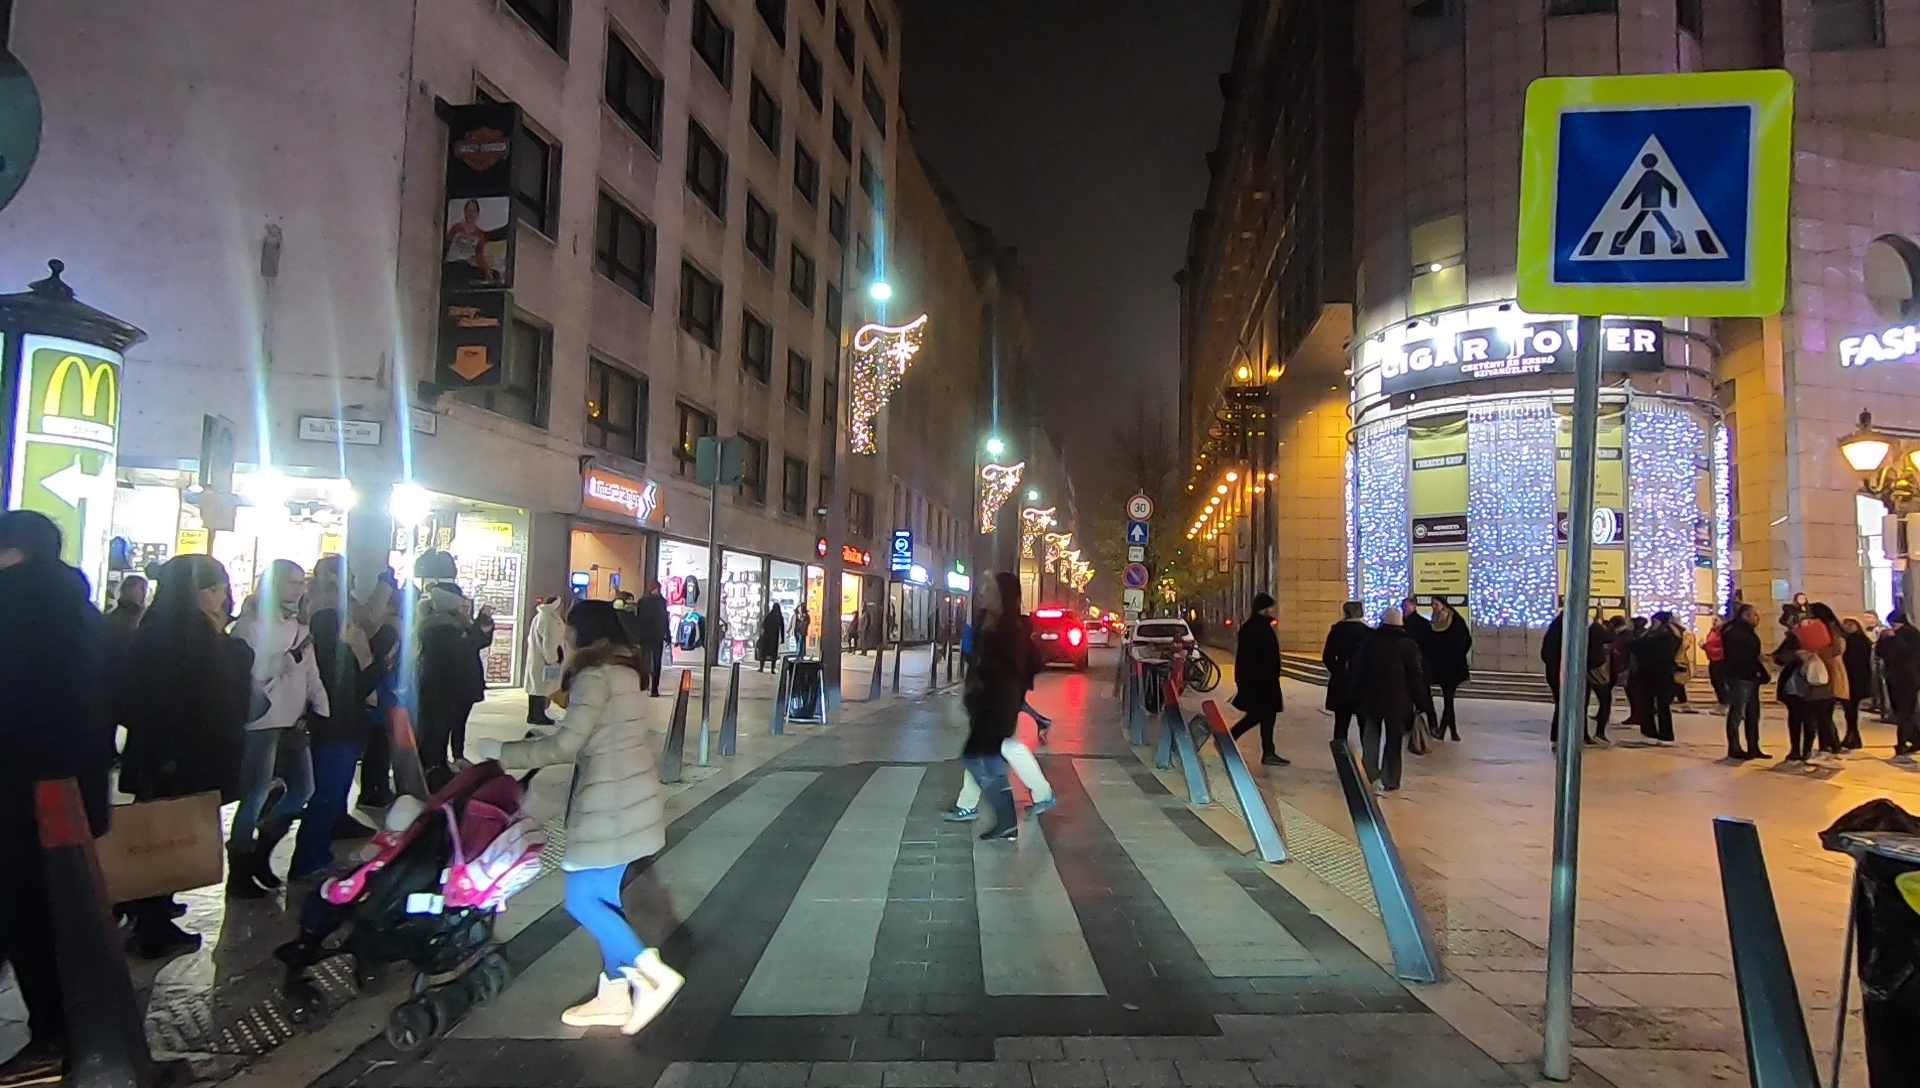person: (559, 605, 682, 1029), (135, 559, 230, 949), (241, 548, 311, 893), (286, 547, 357, 884), (964, 568, 1020, 842), (1228, 594, 1291, 767), (422, 593, 473, 804), (1328, 601, 1374, 788), (1719, 605, 1766, 759), (1429, 592, 1470, 742), (1375, 605, 1406, 794), (1782, 619, 1819, 772), (1644, 606, 1680, 747), (1886, 610, 1920, 751), (1399, 599, 1431, 747), (1581, 611, 1616, 744), (1836, 616, 1870, 749), (530, 595, 564, 726), (638, 581, 667, 695), (759, 603, 782, 674), (791, 603, 811, 661)
